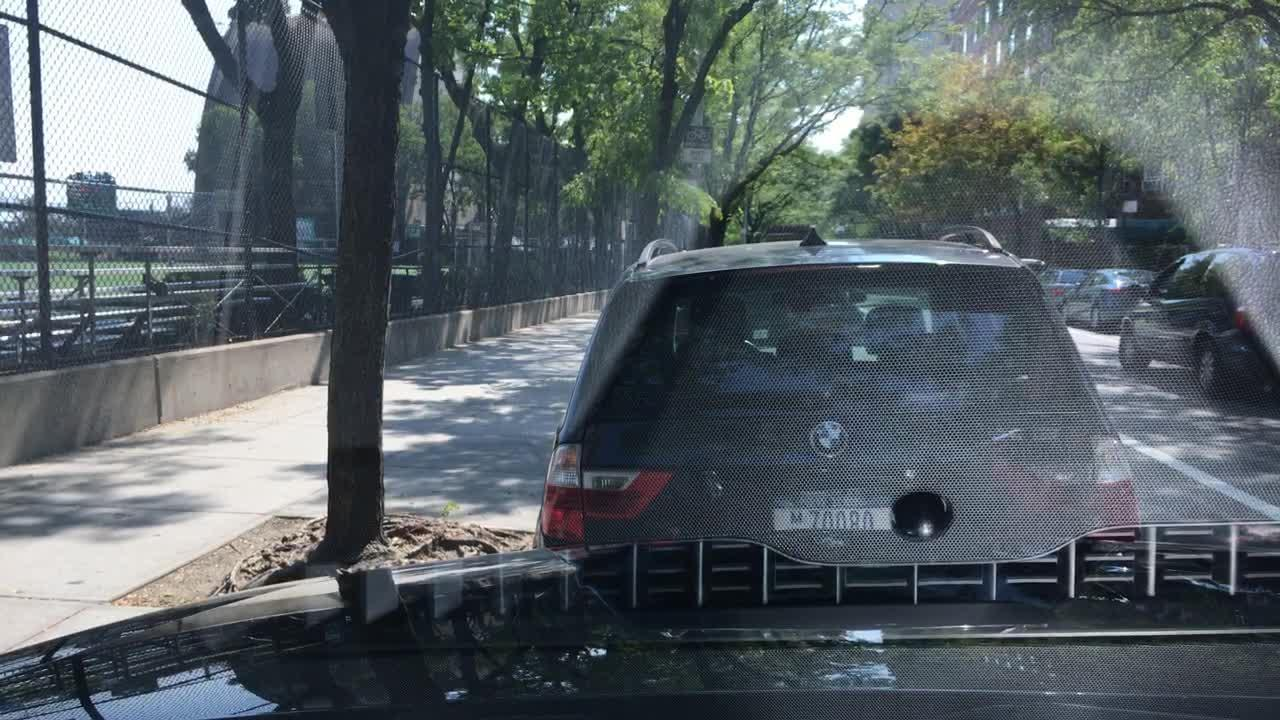bmw: (811, 419, 850, 455)
